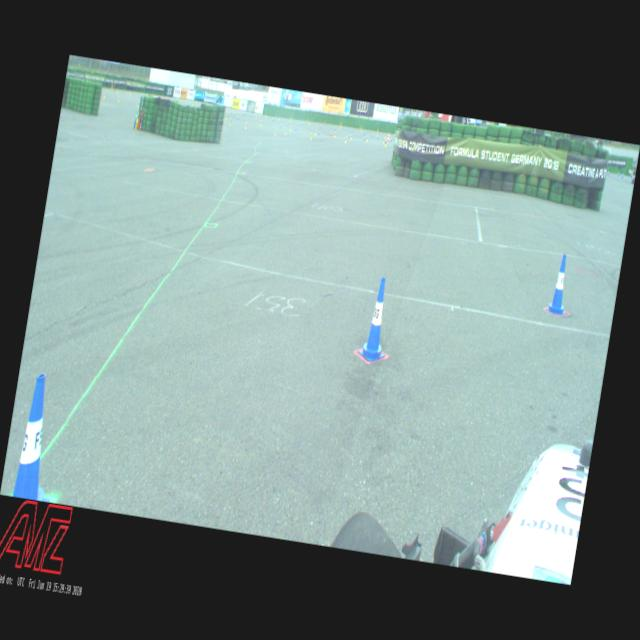blue_cone: (12, 372, 69, 503), (358, 275, 396, 364), (546, 253, 574, 316)
